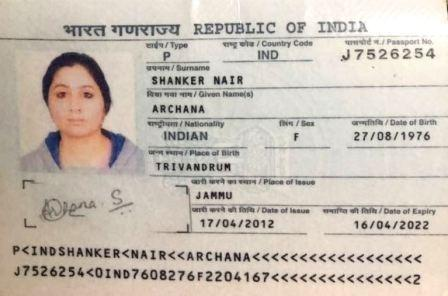DOB: (347, 129, 439, 141)
Surname: (148, 70, 251, 87)
country_code: (252, 48, 281, 62)
date_of_expiry: (347, 216, 434, 231)
date_of_issue: (198, 216, 285, 231)
details: (7, 238, 432, 291)
name: (147, 100, 210, 115)
nationality: (158, 128, 217, 141)
passport_no: (335, 47, 441, 65)
photo: (16, 51, 141, 170)
place_of_birth: (151, 160, 239, 174)
place_of_issue: (191, 187, 238, 202)
sex: (289, 131, 303, 144)
sign: (34, 184, 139, 223)
type: (159, 48, 178, 63)
